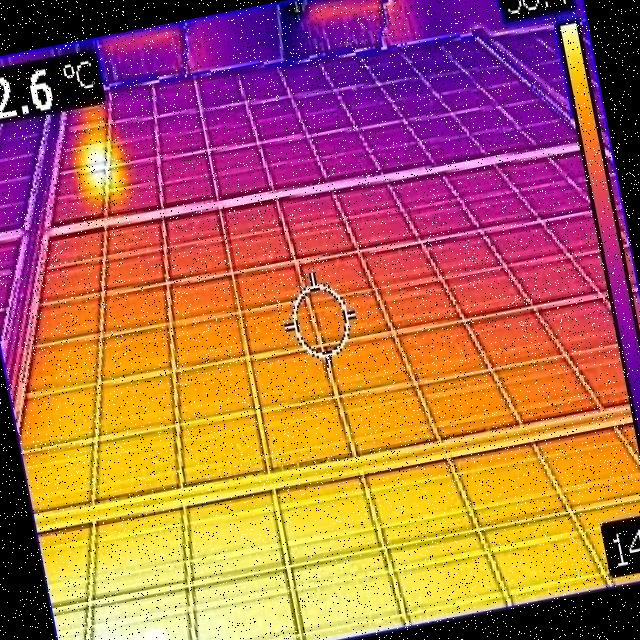Hotspot: (74, 136, 128, 204)
